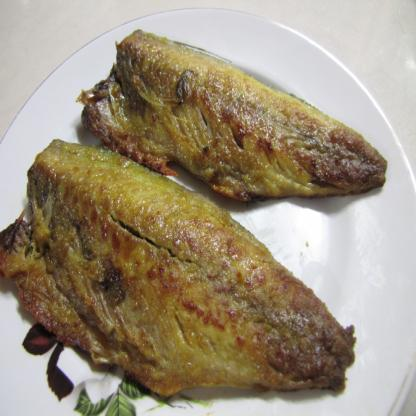Peixe: (0, 133, 348, 400), (77, 33, 399, 194)
